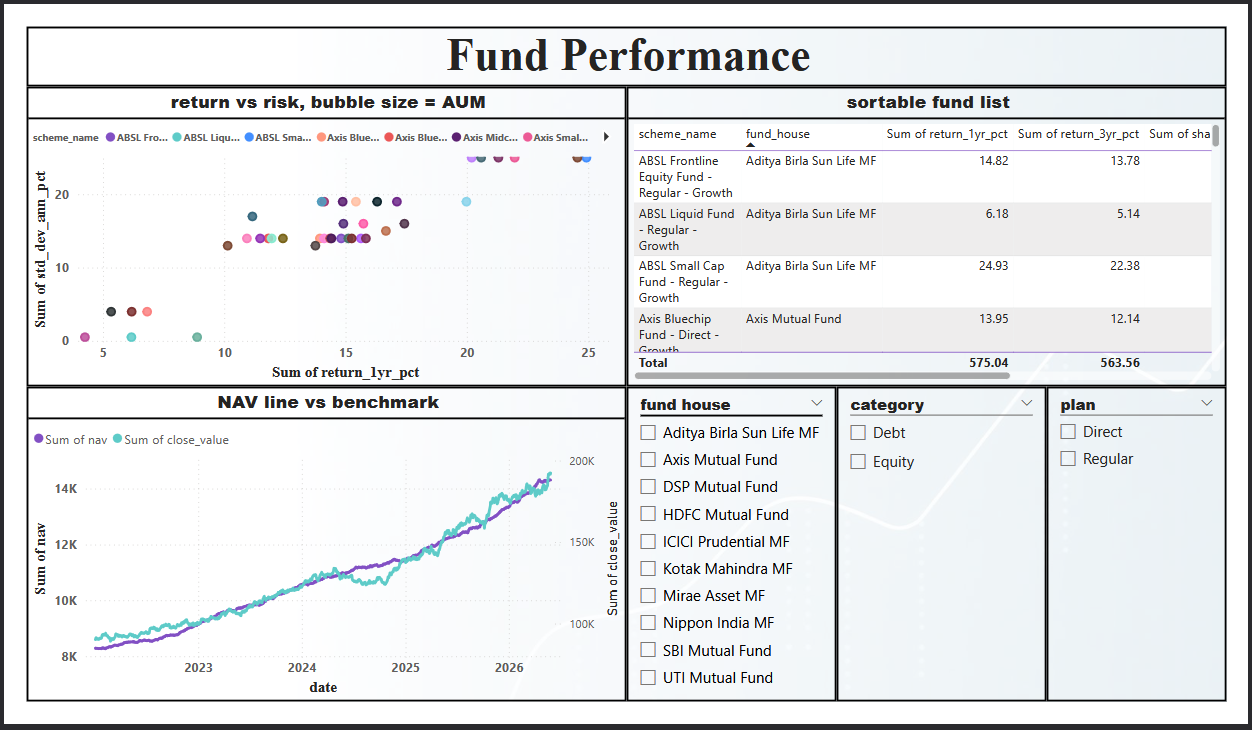

The page's visual inventory and layout, read from the dashboard file:
{"tool":"powerbi","page":{"name":" Fund Performance ","canvas":[1280,720],"ordinal":1},"visuals":[{"type":"textbox","title":"Fund Performance","box":[0,0,1280,64],"z":0},{"type":"scatterChart","title":"return vs risk, bubble size = AUM","fields":{"X":["Sum(07_scheme_performance.return_1yr_pct)"],"Y":["Sum(07_scheme_performance.std_dev_ann_pct)"],"Category":["07_scheme_performance.aum_crore"],"Series":["07_scheme_performance.scheme_name"]},"box":[0,64,640,320],"z":1000},{"type":"tableEx","title":"sortable fund list","fields":{"Values":["07_scheme_performance.scheme_name","07_scheme_performance.fund_house","Sum(07_scheme_performance.return_1yr_pct)","Sum(07_scheme_performance.return_3yr_pct)","Sum(07_scheme_performance.sharpe_ratio)","Sum(07_scheme_performance.expense_ratio_pct)","07_scheme_performance.risk_grade"]},"box":[640,64,640,320],"z":2000},{"type":"lineChart","title":" NAV line vs benchmark","fields":{"Category":["02_nav_history.date"],"Y":["Sum(02_nav_history.nav)"],"Y2":["Sum(10_benchmark_indices.close_value)"]},"box":[0,384,640,336],"z":3000},{"type":"slicer","title":" Slicers: fund house, category, plan","fields":{"Values":["01_fund_master.fund_house"]},"box":[640,384,224,336],"z":4000},{"type":"slicer","fields":{"Values":["01_fund_master.category"]},"box":[864,384,224,336],"z":5000},{"type":"slicer","fields":{"Values":["01_fund_master.plan"]},"box":[1088,384,192,336],"z":6000}]}

Visuals, with their boxes on the page's 1280x720 design canvas (x1, y1, x2, y2). These are canvas units, not pixel positions in the 1252x730 screenshot, which may show the page scaled, cropped or inside an application window:
"Fund Performance" textbox: 0/0/1280/64
"return vs risk, bubble size = AUM" scatterChart: 0/64/640/384
"sortable fund list" tableEx: 640/64/1280/384
" NAV line vs benchmark" lineChart: 0/384/640/720
" Slicers: fund house, category, plan" slicer: 640/384/864/720
slicer - 01_fund_master.category: 864/384/1088/720
slicer - 01_fund_master.plan: 1088/384/1280/720
